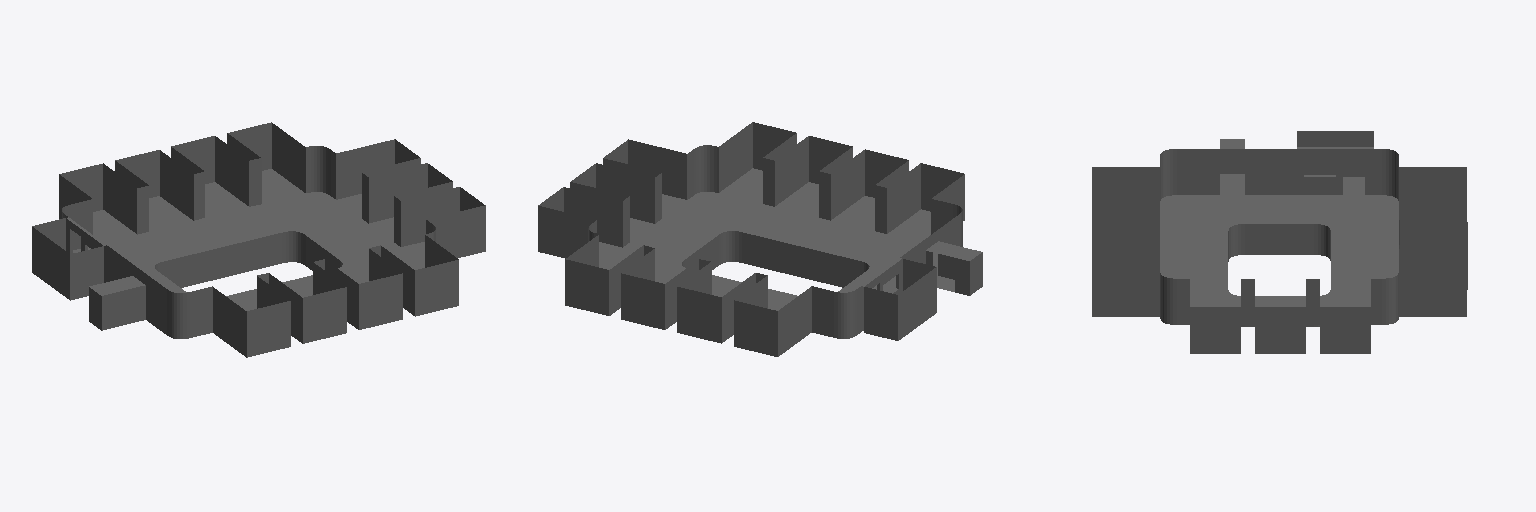
File: escenario.obj
3 renders of one model, left to right at view 1: azimuth 30°, elevation 25°; view 2: azimuth 150°, elevation 25°; view 3: azimuth 270°, elevation 25°, orthographic.
Visible parts, largest first — view 1: Plane005; view 2: Plane005; view 3: Plane005.
Part boxes in pixels (x1,y1,x2,y2): Plane005: (32,122,485,357); Plane005: (538,122,982,356); Plane005: (1092,131,1467,353).
Bounding box in the file's own units: 250 × 50 × 221.